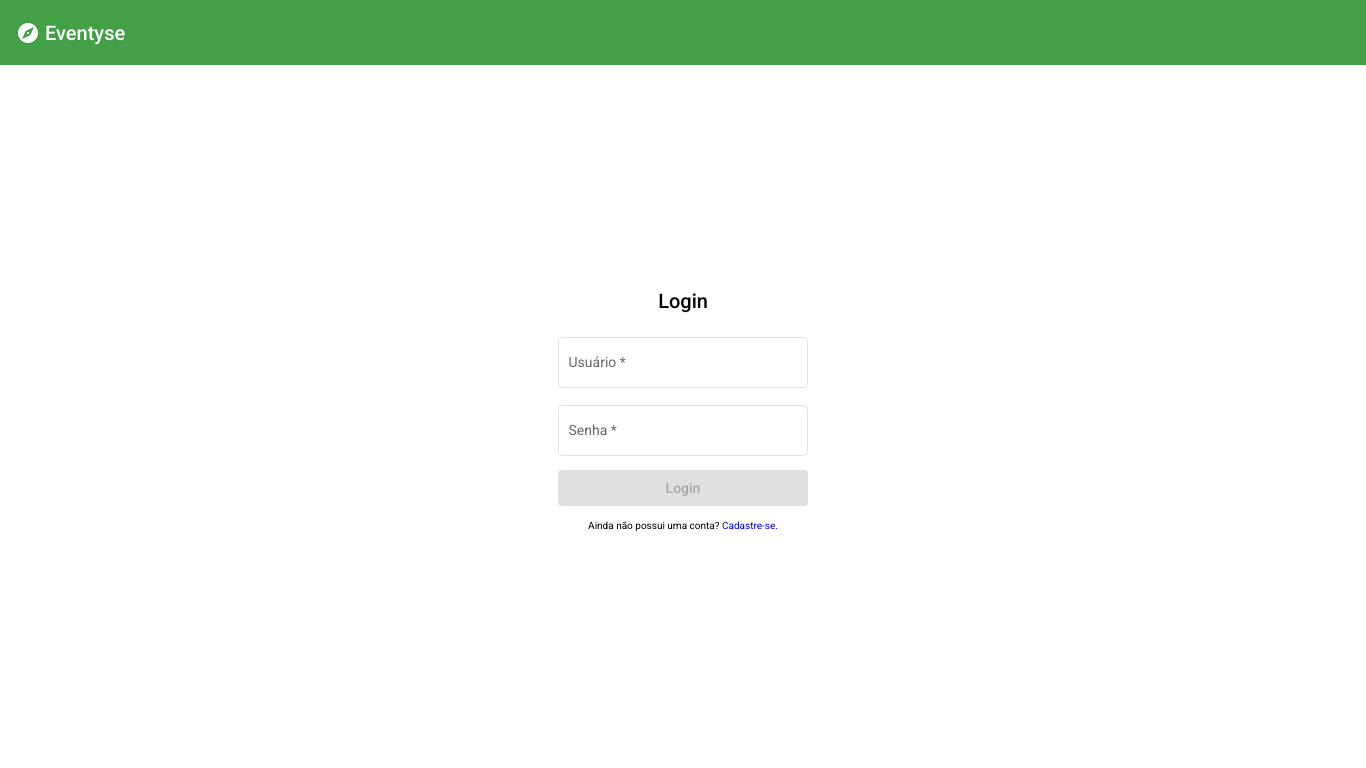
Test: EVENTYSE TESTS › should not allow signup without form
Click the link with id "signup-link-action" at (750, 526), box [722,520,778,531]
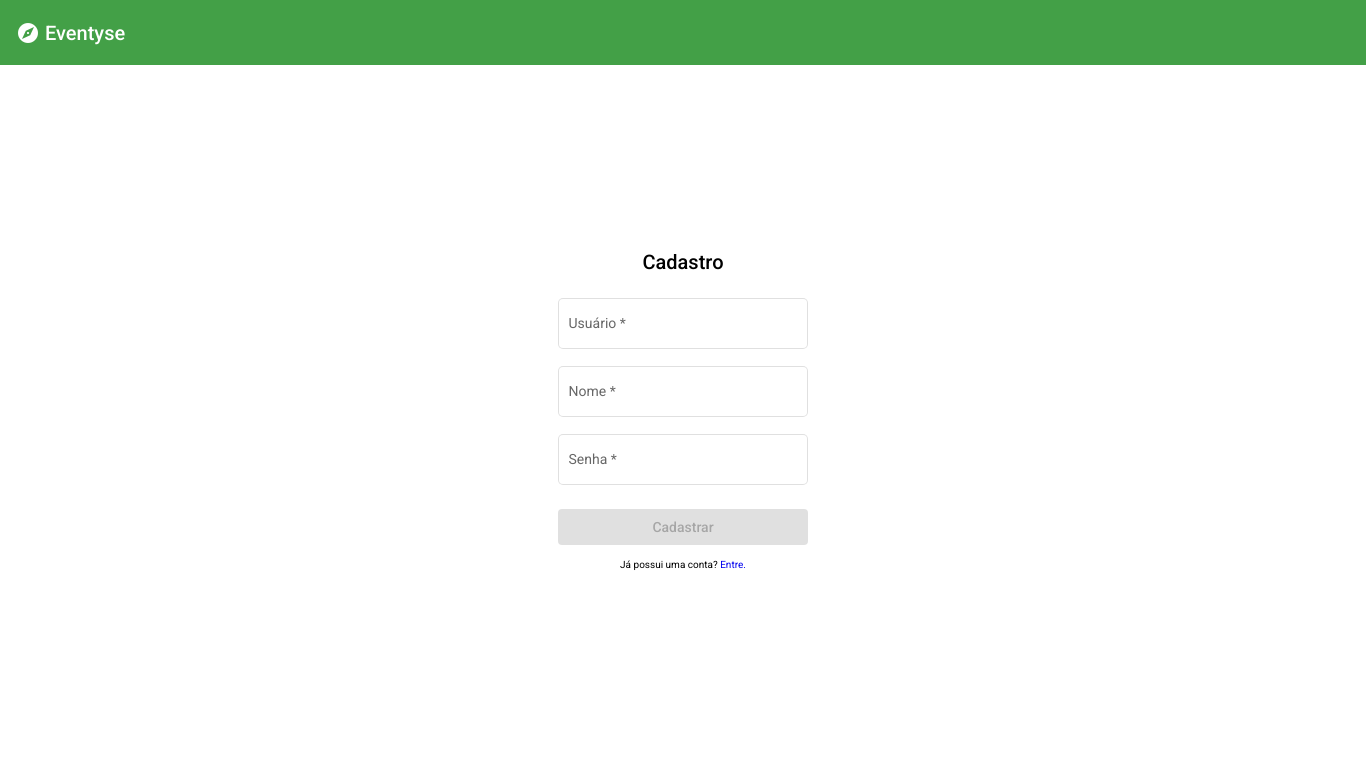
Now the button with id "signup-action" is disabled, box [558,509,808,545]
Type "username0001_test" into the field with id "signup-mail" at (684, 327), box [569,319,798,335]
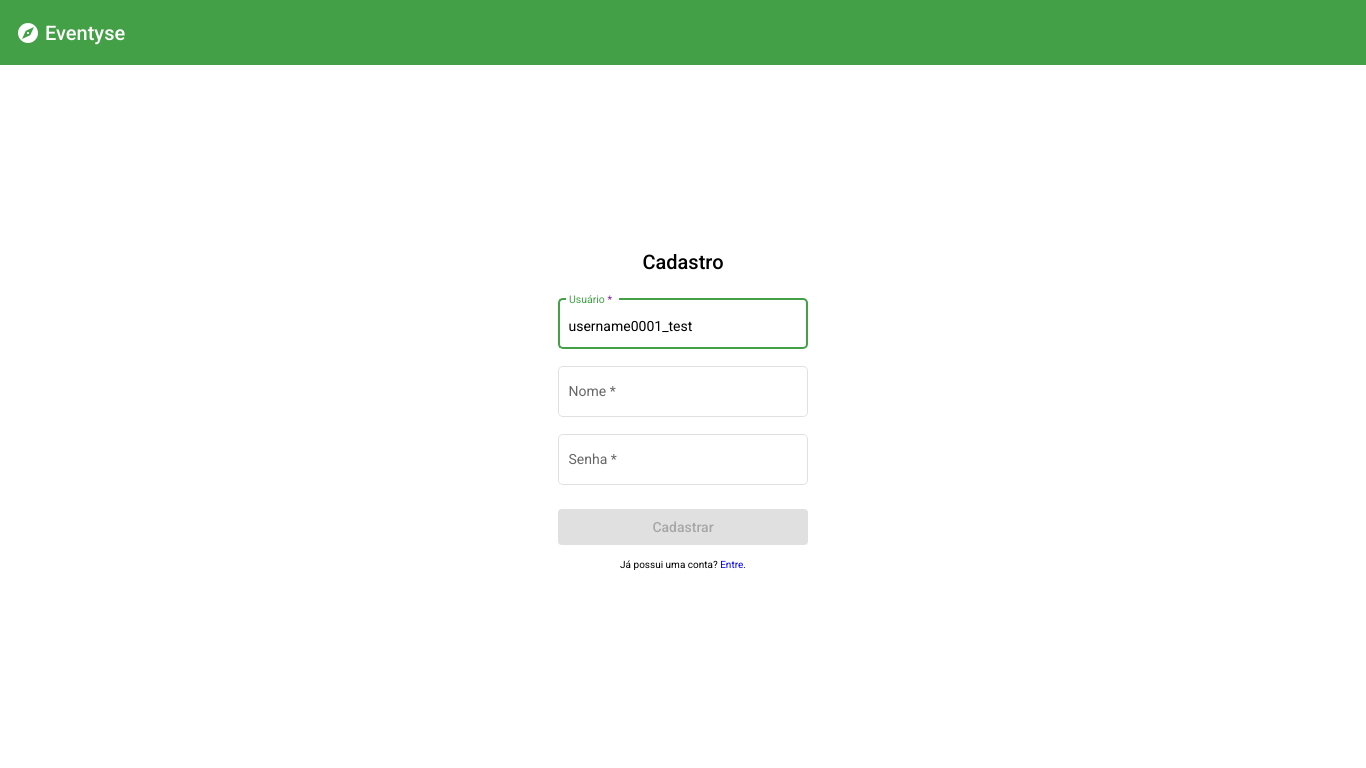
Type "username0001_test" into the field with id "signup-name" at (684, 395), box [569,387,798,403]
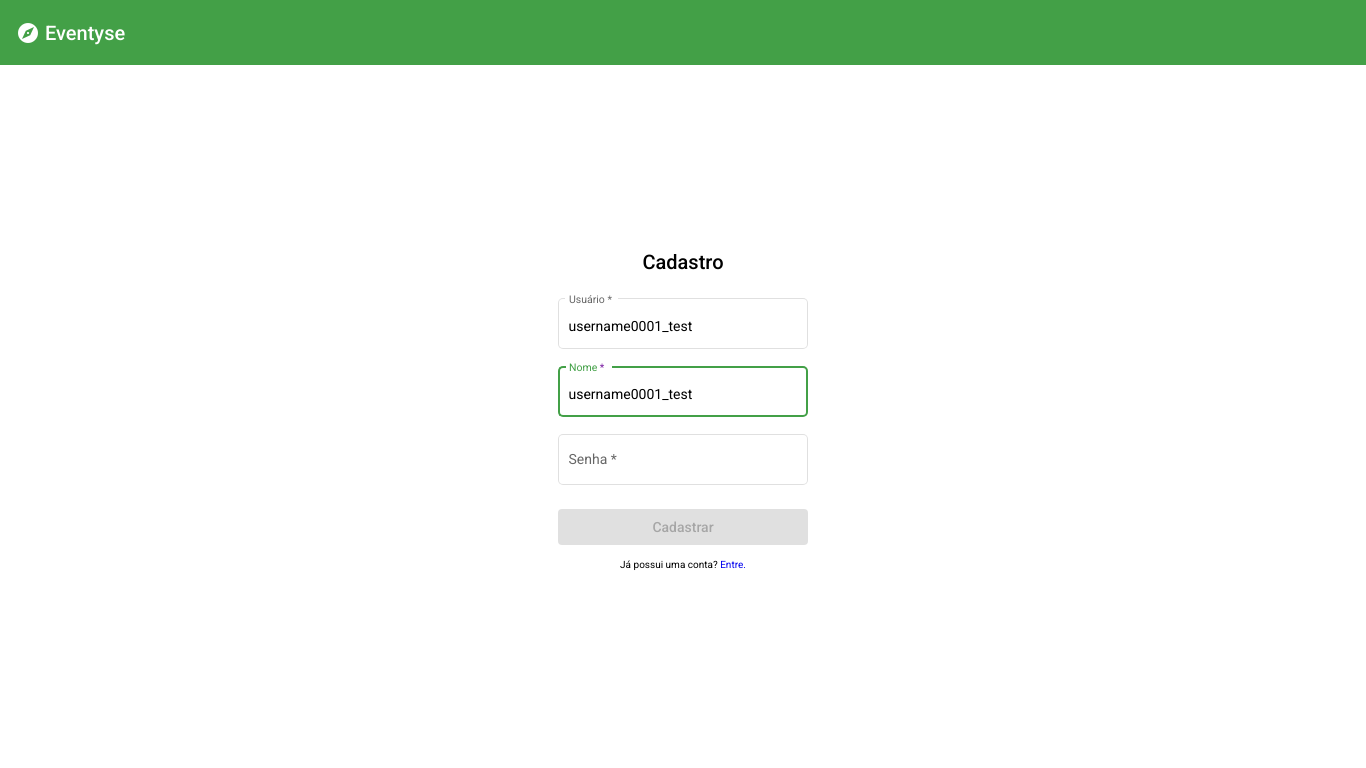
Type "username0001_test" into the password field with id "signup-password" at (684, 464), box [569,456,798,472]
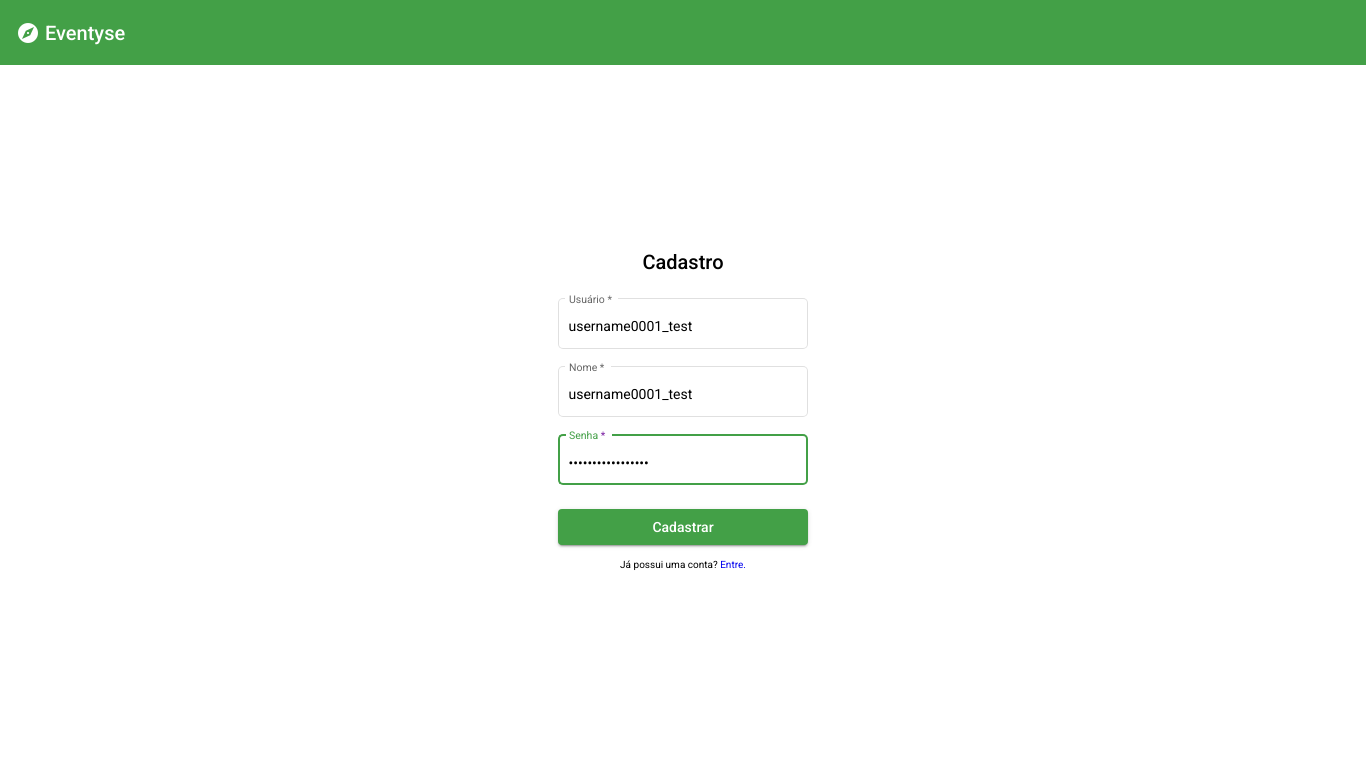
Now the button with id "signup-action" is enabled, box [558,509,808,545]
